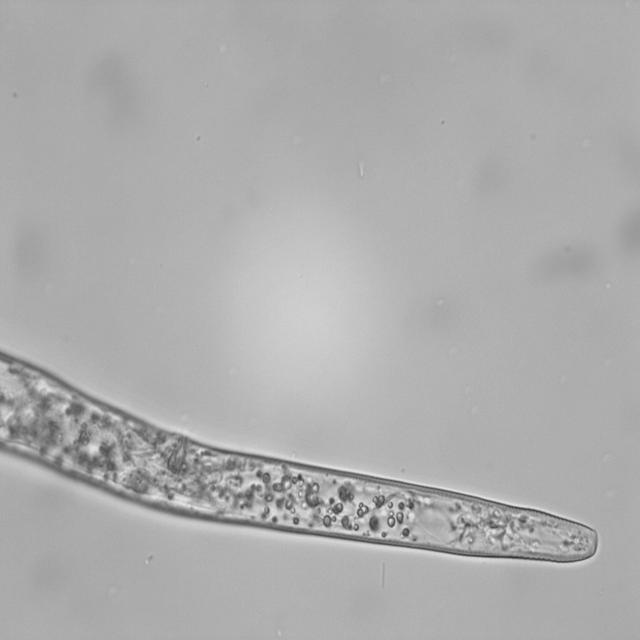Pratylenchus: (0, 327, 602, 569)
